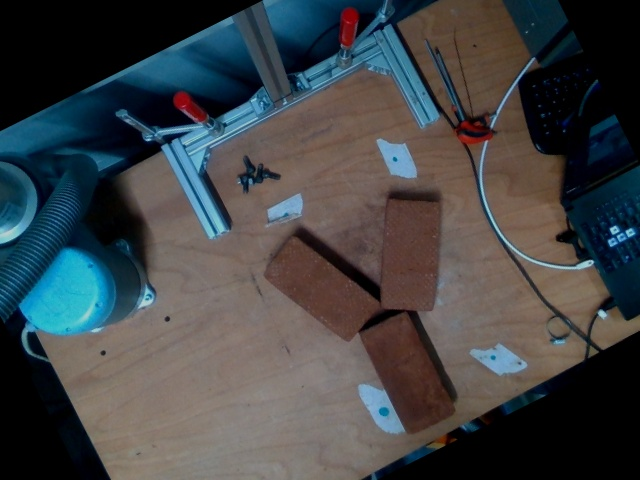brick: (260, 235, 380, 342), (361, 310, 453, 433), (380, 200, 442, 308)
